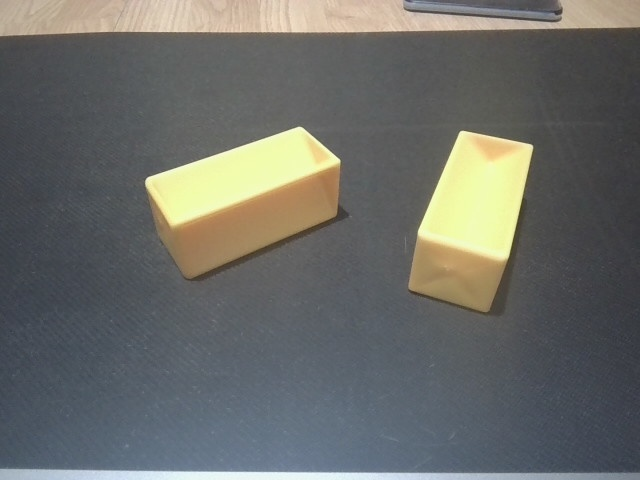YellowSample: (140, 123, 347, 285), (403, 123, 541, 319)
